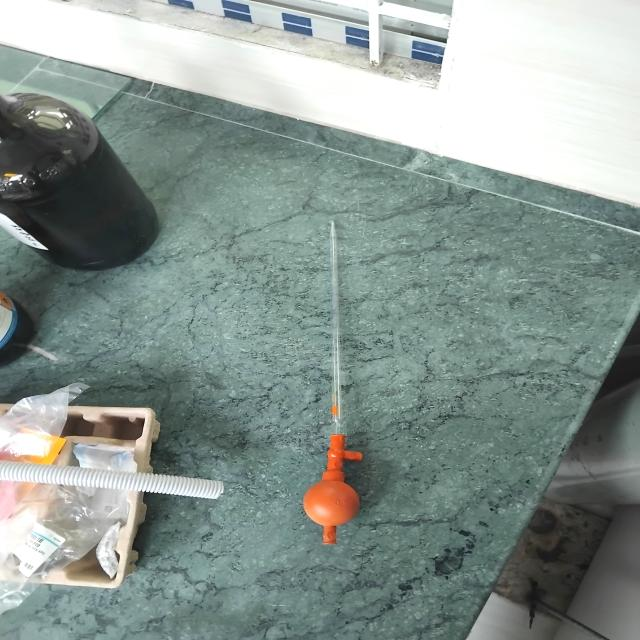Volumetric_Pipet: (285, 208, 387, 554)
